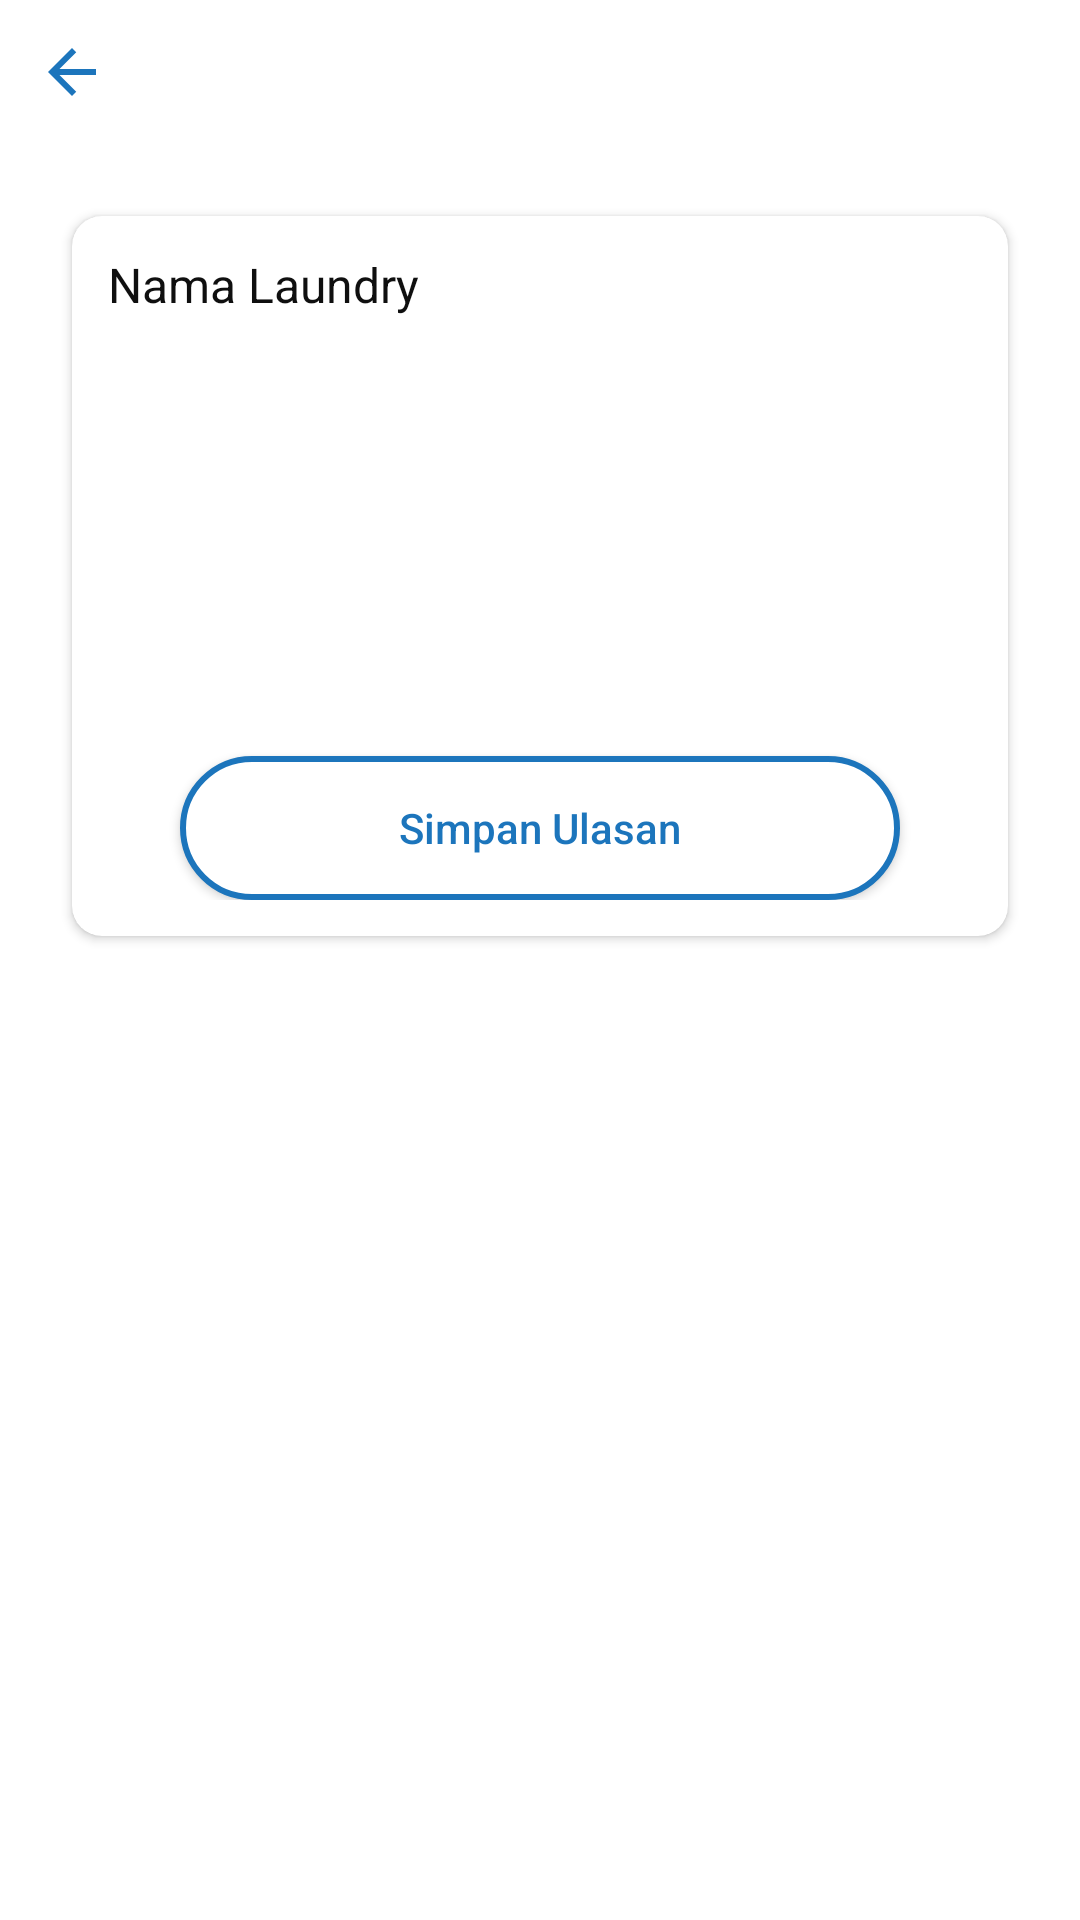

Icon click points for this 1080 x 1920 phone screenshot, format (x,y):
arrow back: (72,72)
